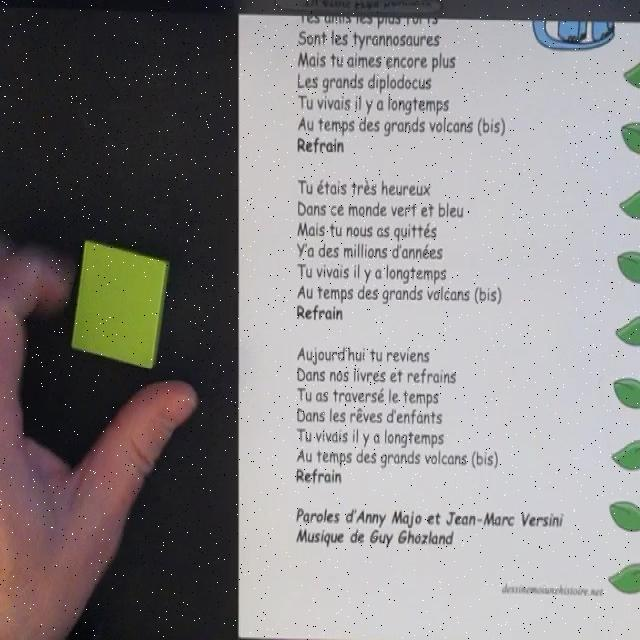square: (71, 238, 169, 371)
